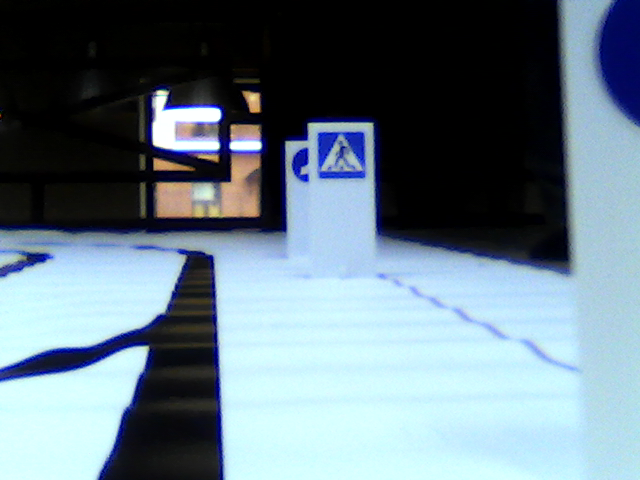pesh: (319, 131, 364, 177)
